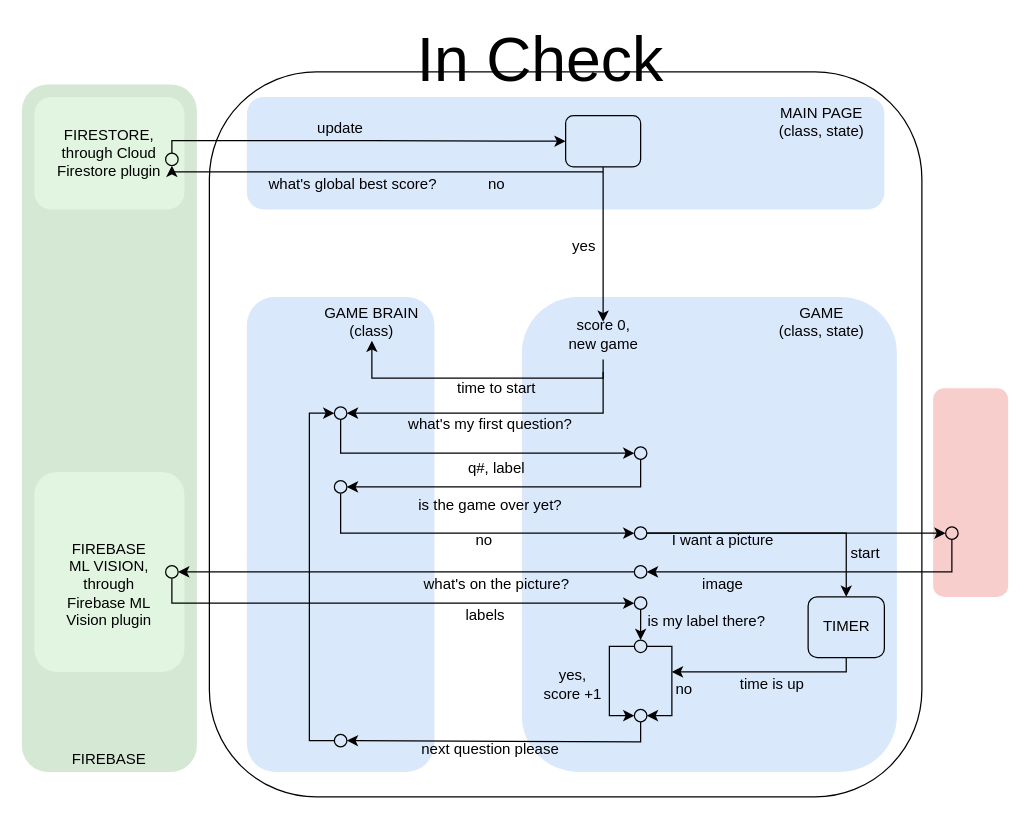
This 1029x819 diagram has some shape labels left out. The centre of each missing label's shape, as x and y in pixels:
"CAMERA (through ImagePicker)" belongs at point (970, 492).
"game started?" belongs at point (602, 140).
